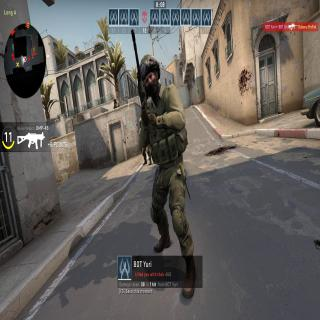CT-Body: (136, 44, 192, 242), (139, 118, 151, 166), (113, 98, 120, 110)
CT-Head: (145, 53, 163, 81), (139, 118, 141, 126), (114, 98, 115, 103)
